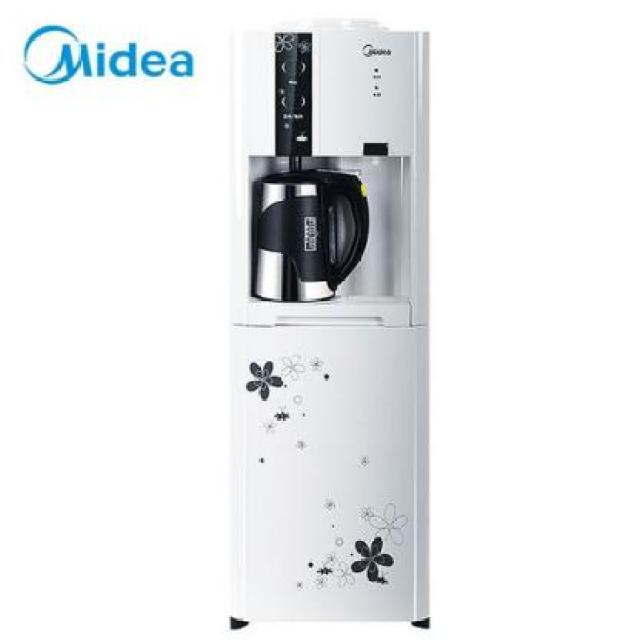cooler: (222, 5, 438, 636)
